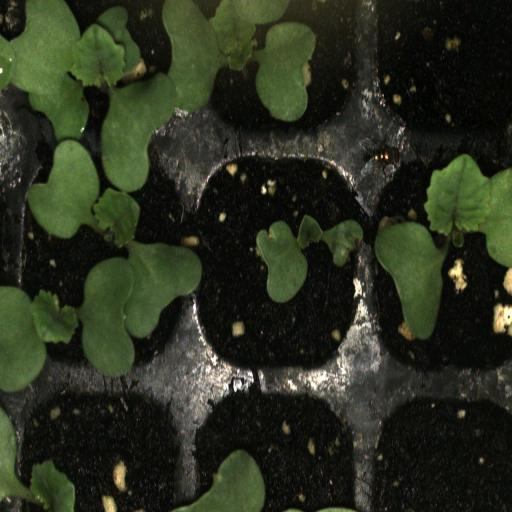noseedling: (369, 0, 511, 151), (374, 379, 512, 512)
seedling: (369, 155, 512, 381)
twoseedling: (9, 150, 195, 378), (8, 0, 195, 151)
weak: (196, 151, 367, 382)
